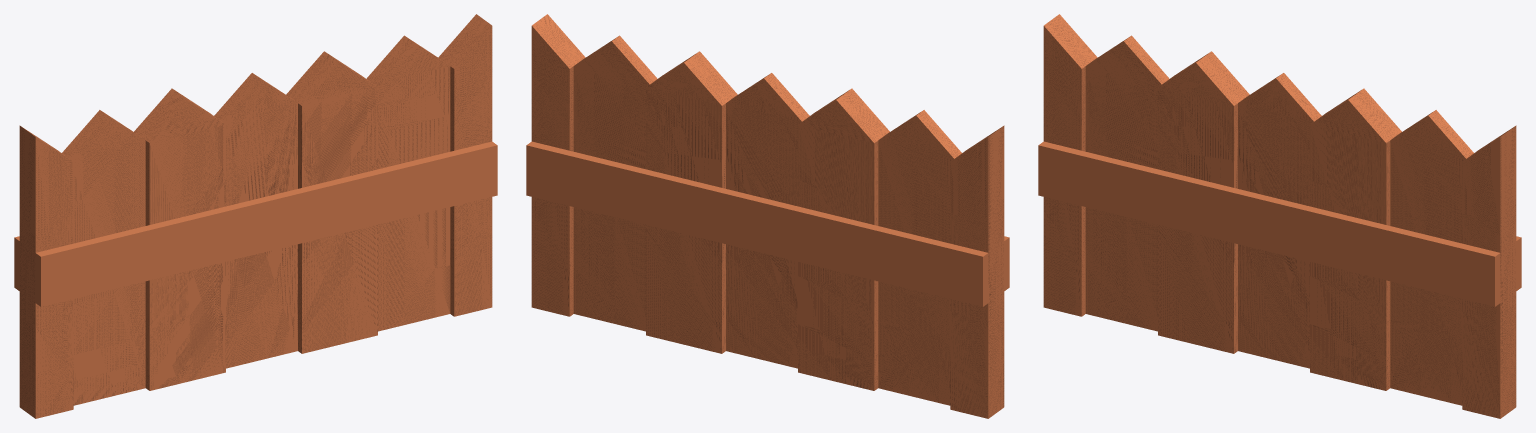
The model's file is fence.dae.
3 views of the same model, side by side, from view 1: azimuth 30°, elevation 25°; view 2: azimuth 150°, elevation 25°; view 3: azimuth 330°, elevation 25° (orthographic).
Parts seen in each view (by area): view 1: fence, board; view 2: fence, board; view 3: fence, board.
Part boxes in pixels (<box>): fence: <box>19,14,492,418</box>; board: <box>35,141,497,306</box>; fence: <box>531,14,1004,418</box>; board: <box>526,141,988,306</box>; fence: <box>1043,14,1516,418</box>; board: <box>1038,141,1500,306</box>.
Bounding box in the file's own units: 1 × 0.59 × 0.1.
